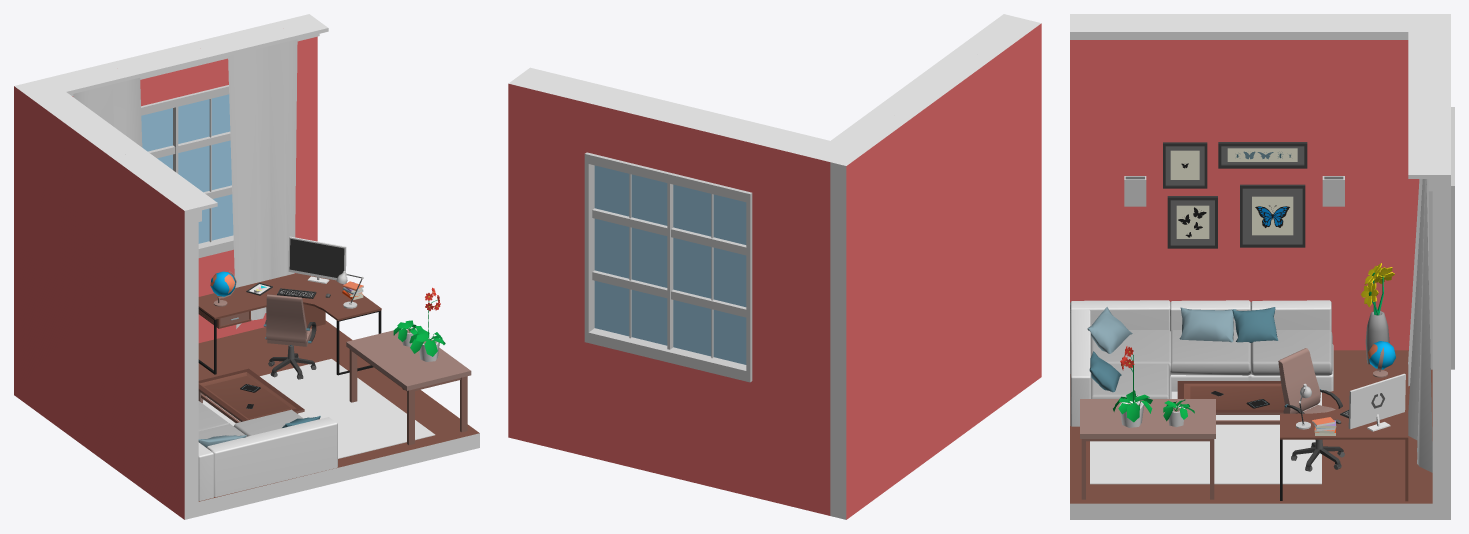
The model's file is room_2.glb.
3 renders of one model, left to right at view 1: azimuth 30°, elevation 25°; view 2: azimuth 150°, elevation 25°; view 3: azimuth 270°, elevation 25°, orthographic. The views are drawn at different scales.
Visible parts, largest first — view 1: Walls_133.002, Curtains_020.002, Walls_009.001, sofa_027.002, window_018.003, Walls_003.001, Walls_133.001, office_table_031.001, office_table_023.001, Walls_033.003, Walls_133.005, coffee_table_012.001 (+8 smaller); view 2: Walls_133.002, window_018.003, Walls_133.003, Walls_133.001, Walls_133.004, Walls_133.005, Walls_033.003, Walls_033.002; view 3: Walls_133.002, sofa_027.002, Walls_009.001, Walls_003.001, Walls_133.001, office_table_023.001, Walls_033.002, Curtains_020.002, picture_052.001, office_table_031.001, Walls_033.003, coffee_table_012.001 (+16 smaller).
Boxes of the visible parts, x1,y1,x2,y2 form: Walls_133.002: (14,82,198,519); Curtains_020.002: (228,39,297,328); Walls_009.001: (198,320,479,516); sofa_027.002: (198,401,337,500); window_018.003: (141,85,233,257); Walls_003.001: (202,359,435,458); Walls_133.001: (239,14,317,331); office_table_031.001: (198,273,381,375); office_table_023.001: (346,330,471,445); Walls_033.003: (36,20,328,96); Walls_133.005: (98,31,246,106); coffee_table_012.001: (198,368,304,422); Walls_133.002: (830,19,1041,519); window_018.003: (584,152,752,382); Walls_133.003: (750,136,839,515); Walls_133.001: (508,77,597,456); Walls_133.004: (588,343,749,496); Walls_133.005: (588,96,758,191); Walls_033.003: (518,67,851,155); Walls_033.002: (831,14,1024,145); Walls_133.002: (1070,14,1450,350); sofa_027.002: (1070,300,1333,426); Walls_009.001: (1070,350,1432,519); Walls_003.001: (1090,391,1321,484); Walls_133.001: (1432,136,1450,519); office_table_023.001: (1080,399,1215,499); Walls_033.002: (1070,21,1408,35); Curtains_020.002: (1408,179,1432,472); picture_052.001: (1240,184,1305,247); office_table_031.001: (1280,364,1408,501); Walls_033.003: (1408,21,1432,178); coffee_table_012.001: (1177,381,1284,424).
Size of the model in its own units: 4.2 by 4.2 by 4.24.
Materials: 1 (1 with a texture image).
